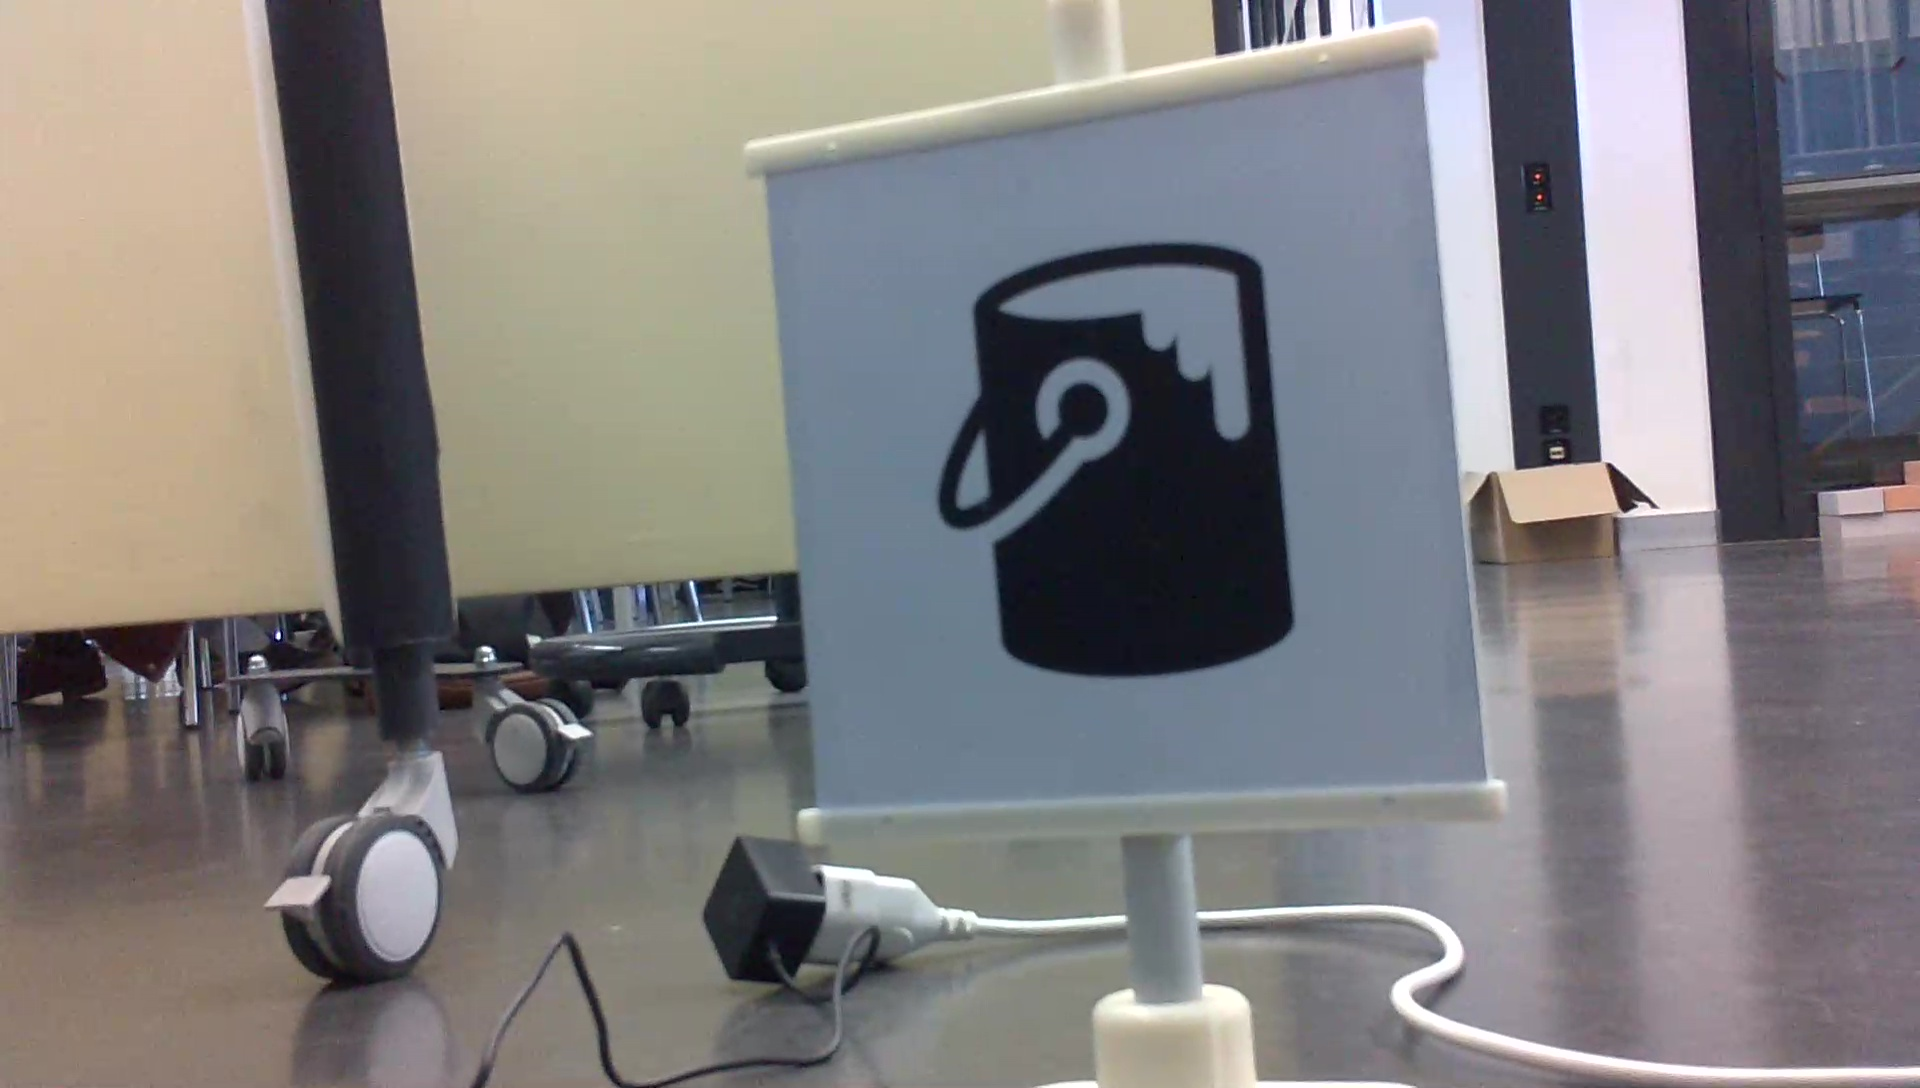bucket: (923, 232, 1308, 692)
